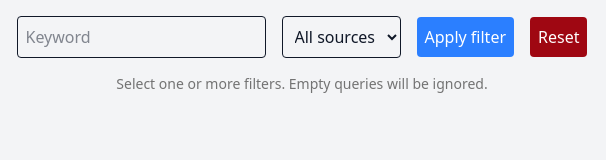
FiltersPage (con userEvent) › resetea los filtros correctamente
In the field with placeholder "Keyword": [141, 37] box x1=16 y1=16 x2=266 y2=58, type "Test"
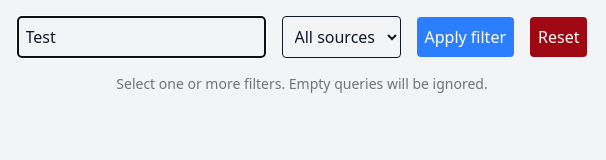
Click the button "Reset": [559, 37] box x1=530 y1=17 x2=588 y2=57
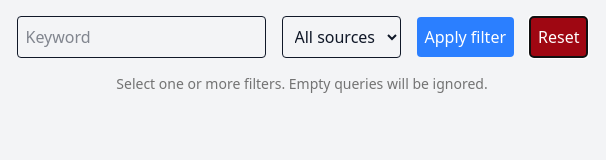
Now the field with placeholder "Keyword" is empty, box x1=16 y1=16 x2=266 y2=58
